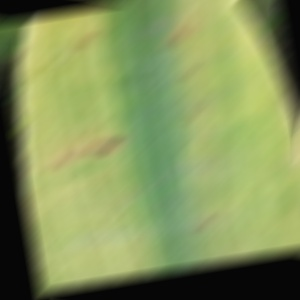Bacterial_Leaf_Blight: (187, 214, 222, 233), (74, 31, 102, 48), (96, 137, 121, 155), (168, 29, 192, 45), (55, 152, 71, 166), (183, 65, 201, 77), (83, 140, 99, 153), (93, 120, 110, 132), (171, 142, 187, 153), (196, 92, 209, 105), (256, 165, 272, 175), (198, 162, 215, 169), (31, 196, 44, 205), (69, 136, 83, 144), (52, 200, 64, 209), (91, 179, 102, 186), (118, 211, 128, 218), (113, 193, 123, 199), (186, 115, 196, 120)
